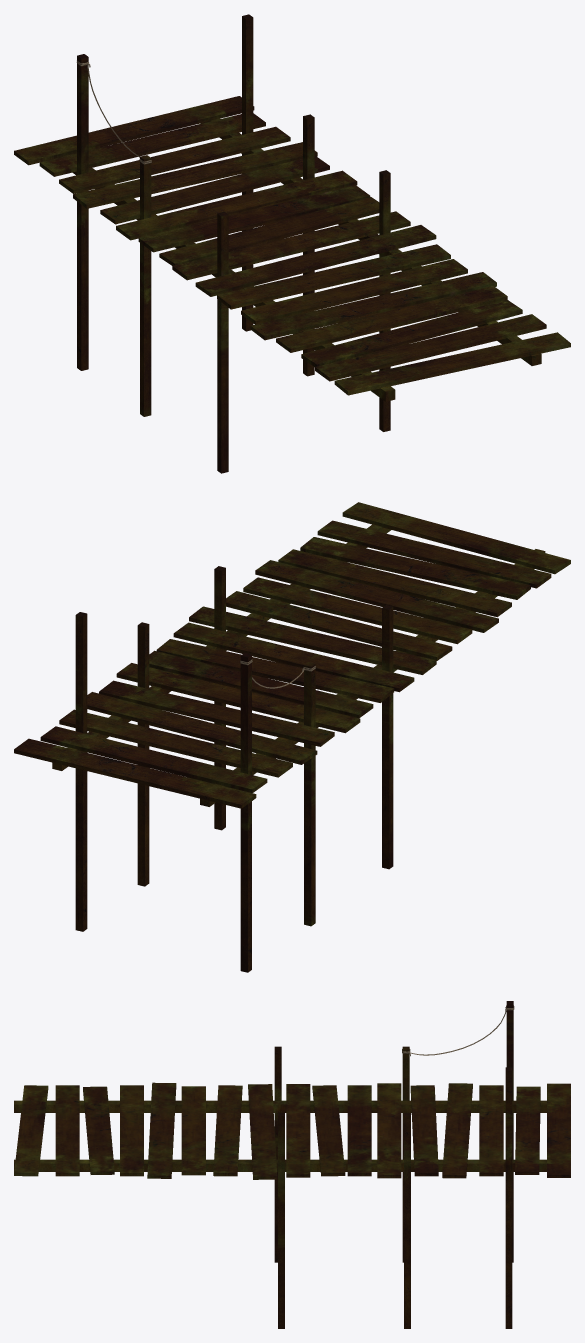
The model's file is wooden pier.fbx.
3 views of the same model, one above another, from view 1: azimuth 30°, elevation 25°; view 2: azimuth 150°, elevation 25°; view 3: azimuth 270°, elevation 25° (orthographic). The views are drawn at different scales.
Parts seen in each view (by area): view 1: Pier_low.001, Pier_low; view 2: Pier_low.001, Pier_low; view 3: Pier_low.001, Pier_low.
Boxes of the visible parts, x1,y1,x2,y2 form: Pier_low.001: (14,14,570,473); Pier_low: (64,118,541,401); Pier_low.001: (14,502,570,972); Pier_low: (52,524,545,806); Pier_low.001: (14,1001,570,1328); Pier_low: (14,1100,546,1171).
Bounding box in the file's own units: 79.78 × 102 × 200.
